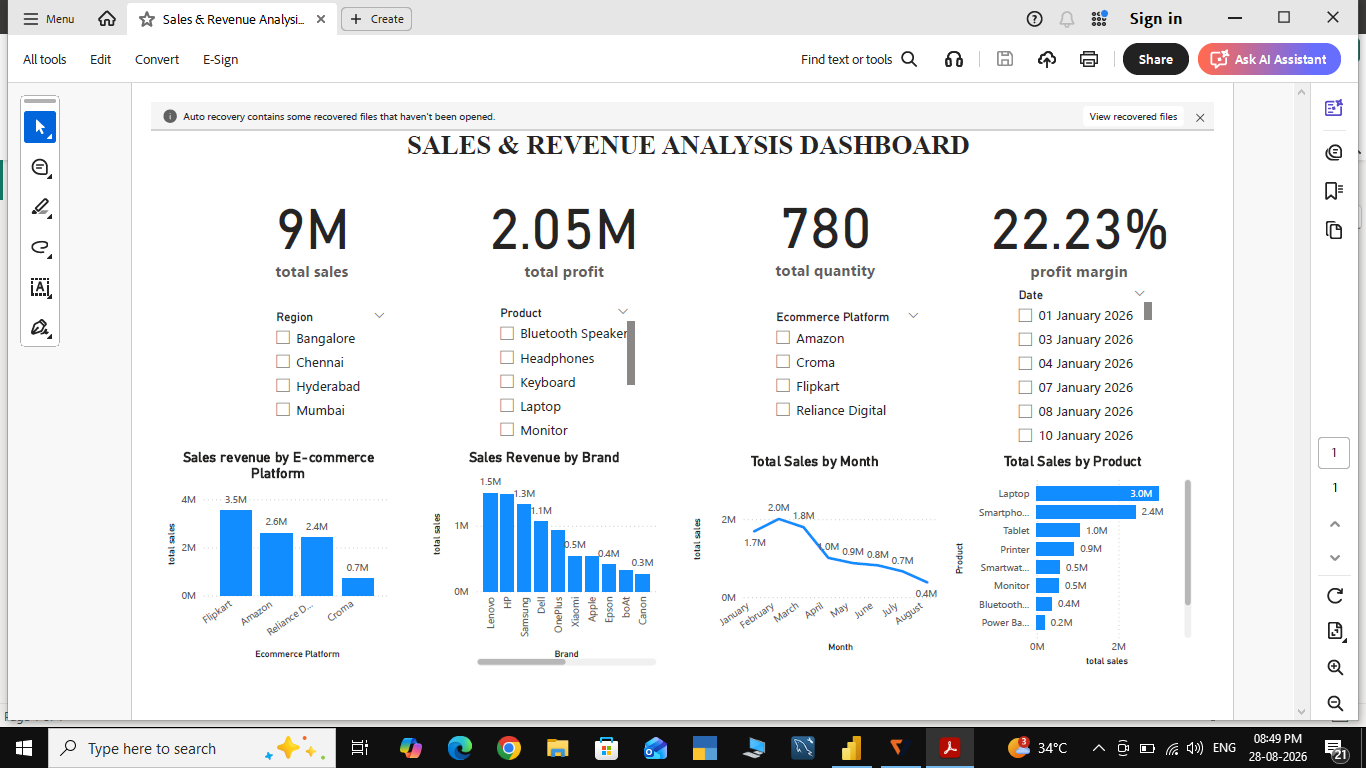

The page's visual inventory and layout, read from the dashboard file:
{"tool":"powerbi","page":{"name":"Page 1","canvas":[1280,720],"ordinal":0},"visuals":[{"type":"card","fields":{"Values":["Sales Data.total sales"]},"box":[53.3,83.3,280,143.3],"z":0},{"type":"card","fields":{"Values":["Sales Data.total profit"]},"box":[356.7,91.7,280,126.7],"z":1000},{"type":"card","fields":{"Values":["Sales Data.total quantity"]},"box":[671.7,63.3,280,181.7],"z":2000},{"type":"card","fields":{"Values":["Sales Data.profit margin"]},"box":[978.3,70,280,170],"z":3000},{"type":"lineChart","title":"Total Sales by Month","fields":{"Y":["Sales Data.total sales"],"Category":["Sales Data.Date.Variation.Date Hierarchy.Month"]},"box":[646.7,421.7,305,245],"z":4000},{"type":"clusteredBarChart","title":"Total Sales by Product","fields":{"Y":["Sales Data.total sales"],"Category":["Sales Data.Product"]},"box":[963.3,421.7,295,261.7],"z":5000},{"type":"clusteredColumnChart","title":"Sales Revenue by Brand","fields":{"Category":["Sales Data.Brand"],"Y":["Sales Data.total sales"]},"box":[333.3,416.7,280,266.7],"z":6000},{"type":"clusteredColumnChart","title":"Sales revenue by E-commerce Platform","fields":{"Category":["Sales Data.Ecommerce Platform"],"Y":["Sales Data.total sales"]},"box":[13.3,416.7,280,258.3],"z":7000},{"type":"slicer","fields":{"Values":["Sales Data.Region"]},"box":[136.7,245,156.7,150],"z":8000},{"type":"slicer","fields":{"Values":["Sales Data.Ecommerce Platform"]},"box":[740,245,196.7,171.7],"z":9000},{"type":"textbox","box":[36,27.8,1221.1,49.1],"z":10000},{"type":"slicer","fields":{"Values":["Sales Data.Product"]},"box":[406.7,240,180,176.7],"z":10001},{"type":"slicer","fields":{"Values":["Sales Data.Date"]},"box":[1031.7,218.3,178.3,203.3],"z":10002}]}

Visuals, with their boxes on the page's 1280x720 design canvas (x1, y1, x2, y2). These are canvas units, not pixel positions in the 1366x768 screenshot, which may show the page scaled, cropped or inside an application window:
card - Sales Data.total sales: 53 83 333 227
card - Sales Data.total profit: 357 92 637 218
card - Sales Data.total quantity: 672 63 952 245
card - Sales Data.profit margin: 978 70 1258 240
"Total Sales by Month" lineChart: 647 422 952 667
"Total Sales by Product" clusteredBarChart: 963 422 1258 683
"Sales Revenue by Brand" clusteredColumnChart: 333 417 613 683
"Sales revenue by E-commerce Platform" clusteredColumnChart: 13 417 293 675
slicer - Sales Data.Region: 137 245 293 395
slicer - Sales Data.Ecommerce Platform: 740 245 937 417
textbox: 36 28 1257 77
slicer - Sales Data.Product: 407 240 587 417
slicer - Sales Data.Date: 1032 218 1210 422
